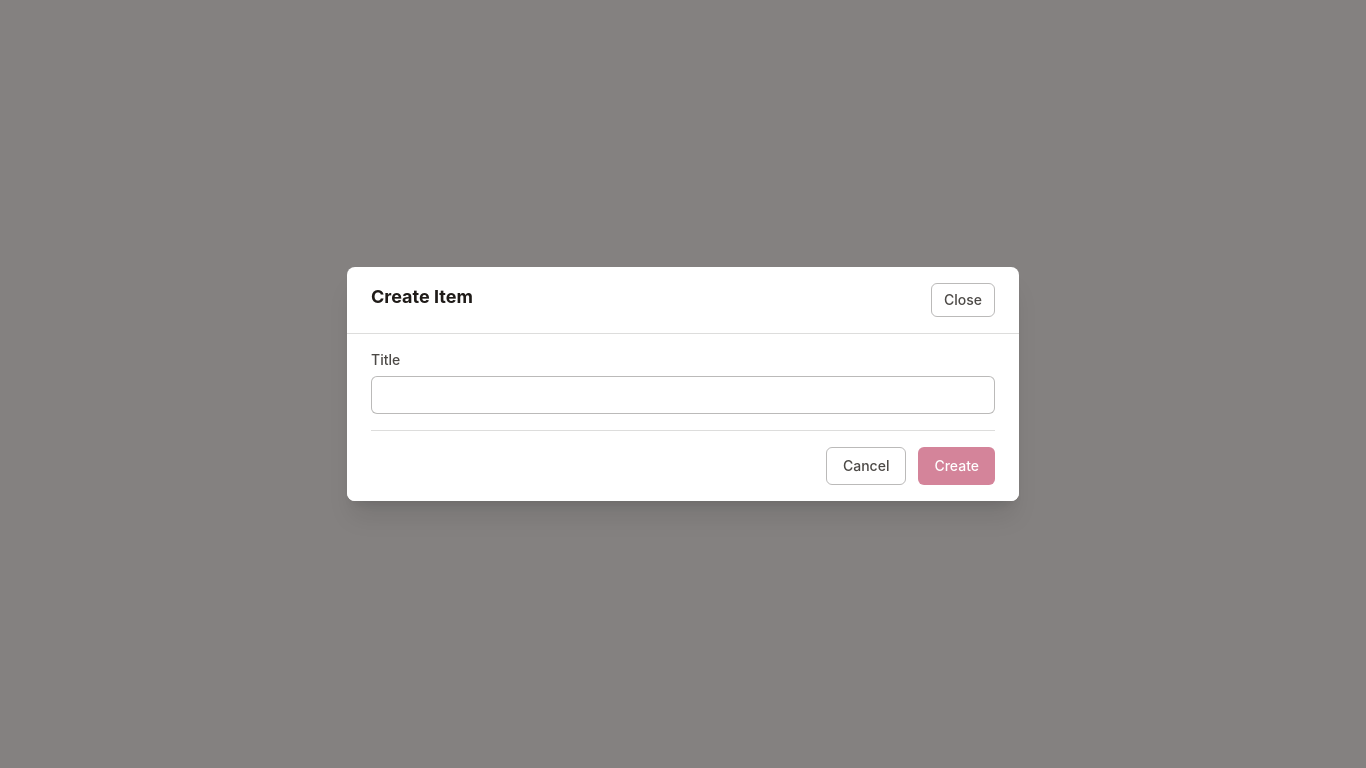
Scenario: EditorDialog › renders normalized per-field save rejections and clears them after field edits
In the field labelled "Title": [683, 395] box [371,376,995,414], type "Duplicate"
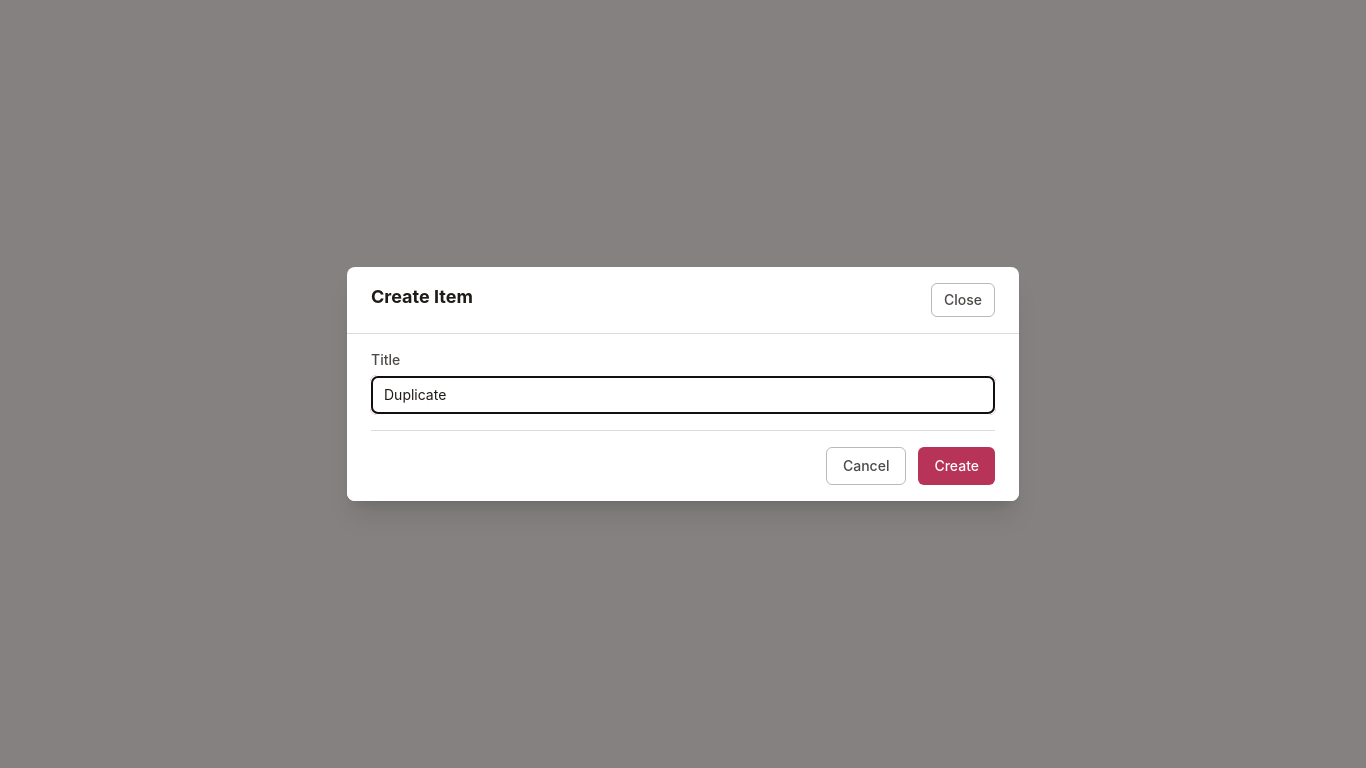
Click the button with test id "editor-dialog-save": [957, 466] box [918,447,995,485]
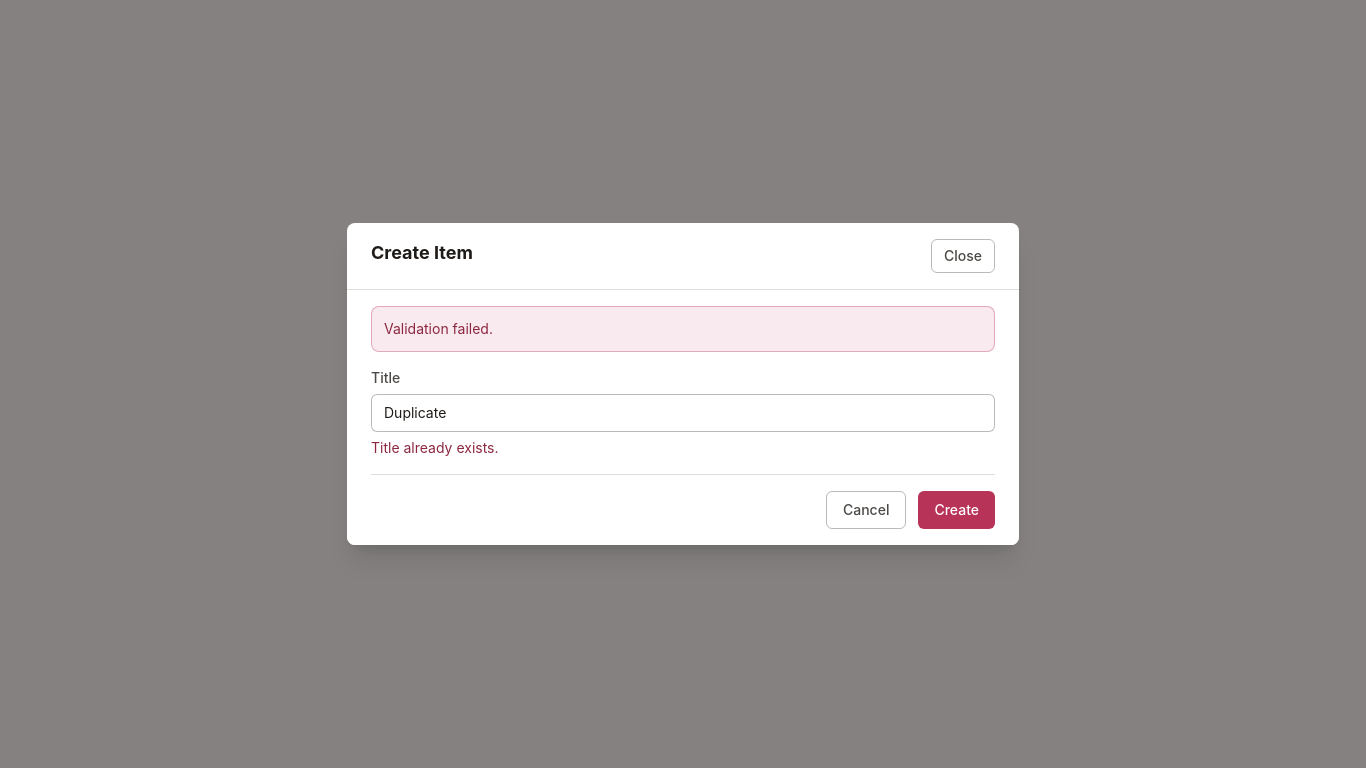
Expected: the text "Validation failed." is shown, [371,306,995,352]
Expected: the text "Title already exists." is shown, [371,439,498,456]
Replace the text in the field labelled "Title" with "Unique": [683, 413] box [371,394,995,432]
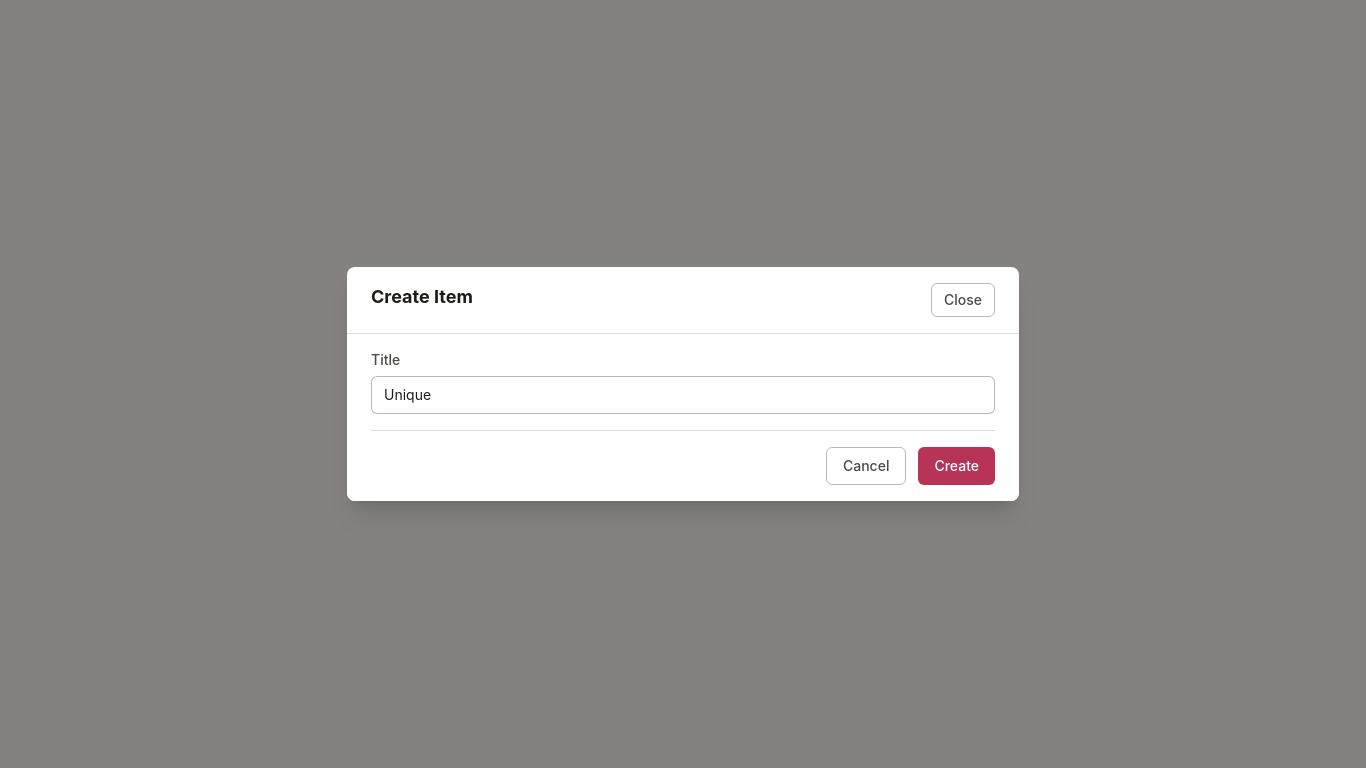
Expected: the text "Validation failed." is gone
Expected: the text "Title already exists." is gone
